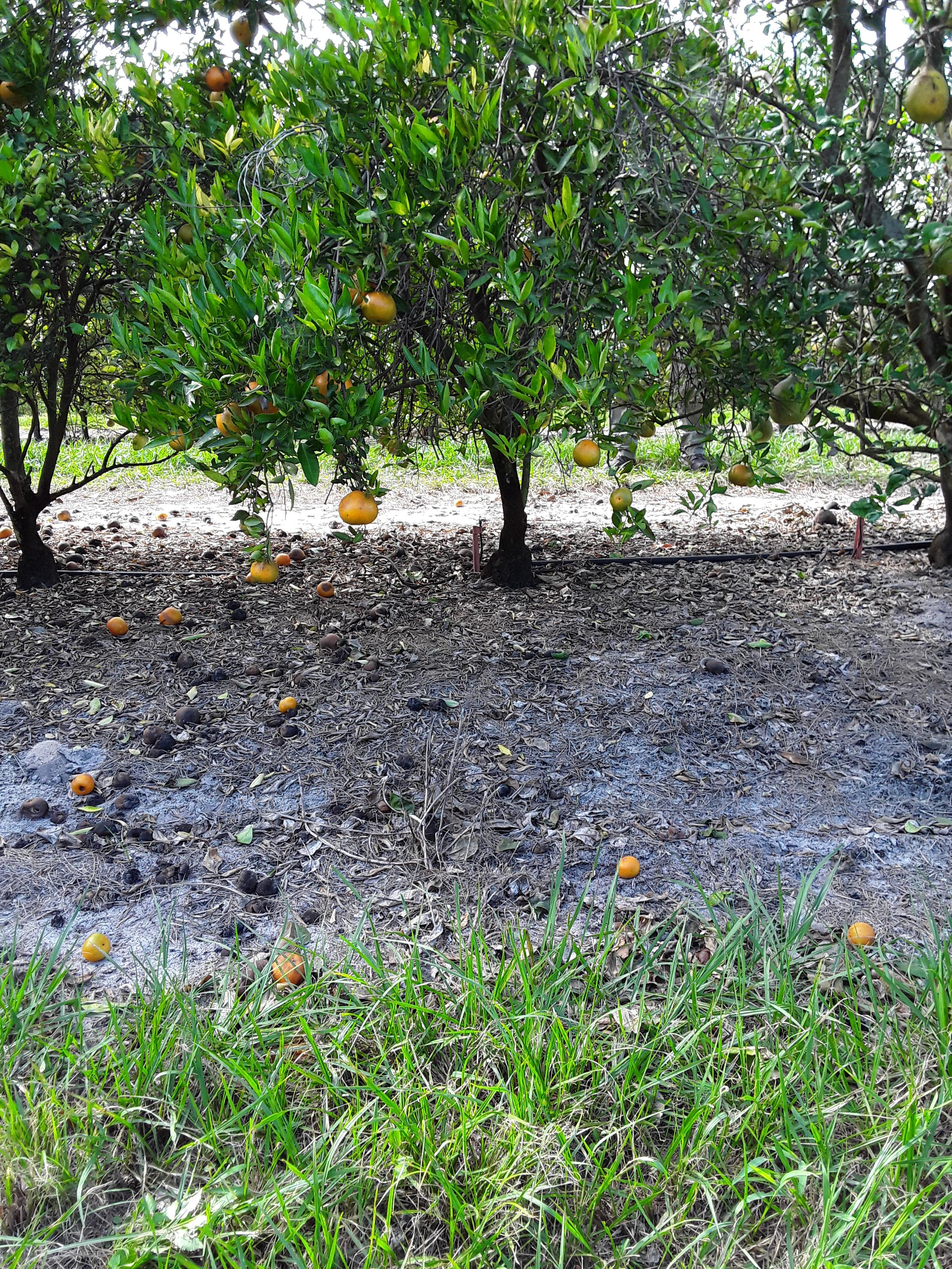fruit_on_ground: (900, 64, 952, 126), (767, 374, 815, 426), (237, 377, 285, 419), (310, 368, 356, 407), (211, 399, 253, 439), (337, 488, 379, 527), (359, 289, 400, 326), (924, 229, 952, 279), (225, 13, 258, 48), (340, 273, 374, 306), (570, 435, 603, 469), (779, 4, 814, 36), (745, 415, 778, 446), (0, 75, 31, 108), (202, 63, 233, 92), (727, 461, 755, 488), (607, 486, 635, 513), (513, 239, 539, 267), (164, 426, 193, 451), (174, 220, 200, 246), (828, 334, 854, 357), (386, 436, 407, 456), (637, 419, 658, 439), (104, 418, 116, 428)
fruit_on_tree: (268, 949, 307, 988), (79, 930, 112, 965), (844, 918, 877, 951), (616, 853, 643, 883), (17, 795, 49, 820), (252, 558, 280, 585), (69, 771, 96, 797), (254, 873, 280, 899), (235, 867, 260, 894), (174, 702, 202, 726), (702, 656, 731, 677), (157, 605, 184, 626), (105, 614, 129, 637), (277, 694, 301, 716), (91, 819, 117, 839), (689, 945, 712, 967), (127, 825, 155, 843), (316, 631, 341, 650), (814, 508, 839, 527), (155, 732, 177, 753), (140, 724, 162, 745), (315, 579, 337, 600), (298, 904, 321, 924), (112, 770, 136, 789), (113, 792, 137, 811), (496, 780, 518, 800), (122, 866, 142, 886), (280, 720, 301, 739), (395, 752, 415, 771), (361, 656, 382, 674), (328, 651, 348, 669), (374, 798, 394, 815), (229, 607, 249, 624), (405, 696, 425, 712), (289, 544, 307, 561), (273, 550, 292, 566), (363, 604, 381, 620), (65, 558, 84, 571), (826, 499, 842, 513), (202, 546, 218, 560), (0, 524, 14, 539), (152, 524, 167, 538), (107, 519, 122, 531), (57, 509, 72, 521), (156, 510, 170, 522), (56, 541, 71, 552), (453, 496, 466, 507), (110, 533, 122, 543)
